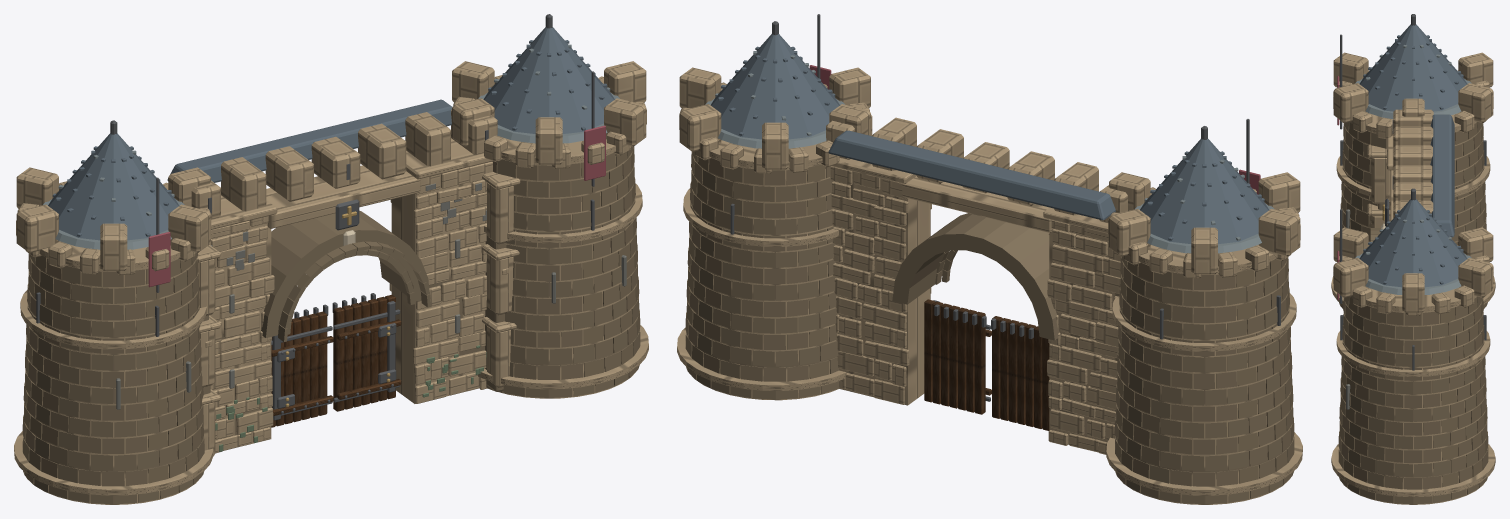
The model's file is valoria_gate_reference.glb.
3 renders of one model, left to right at view 1: azimuth 30°, elevation 25°; view 2: azimuth 150°, elevation 25°; view 3: azimuth 270°, elevation 25°, orthographic. The views are drawn at different scales.
Visible parts, largest first — view 1: arched_voussoir, gate_parapet_recessed_stone_hip, ashlar_portal_outboard.007, gate_flank_tower_recessed_drum, ashlar_portal_outboard.002, ashlar_portal_outboard.006, ashlar_portal_outboard, ashlar_portal_outboard.004, ashlar_portal_outboard.005, ashlar_portal_outboard.003, ashlar_portal_outboard.001, black_iron_strap.001 (+7 smaller); view 2: arched_voussoir, gate_parapet_recessed_stone_hip, ashlar_portal_outboard.007, gate_flank_tower_recessed_drum, ashlar_portal_outboard.002, ashlar_portal_outboard, ashlar_portal_outboard.001, ashlar_portal_outboard.004, ashlar_portal_outboard.005, ashlar_portal_outboard.003, ashlar_portal_outboard.006, vertical_oak_plank (+4 smaller); view 3: arched_voussoir, gate_parapet_recessed_stone_hip, ashlar_portal_outboard.003, ashlar_portal_outboard.006, ashlar_portal_outboard.002, gate_flank_tower_recessed_drum, ashlar_portal_outboard.007, ashlar_portal_outboard.005, ashlar_portal_outboard.001, ashlar_portal_outboard, ashlar_portal_outboard.004, slate_lap_tile (+1 smaller).
Part boxes in pixels (bbox=[...]): arched_voussoir: bbox=[14, 61, 648, 495]; gate_parapet_recessed_stone_hip: bbox=[48, 27, 614, 240]; ashlar_portal_outboard.007: bbox=[22, 159, 639, 492]; gate_flank_tower_recessed_drum: bbox=[24, 153, 638, 504]; ashlar_portal_outboard.002: bbox=[22, 147, 639, 502]; ashlar_portal_outboard.006: bbox=[25, 161, 640, 483]; ashlar_portal_outboard: bbox=[22, 147, 637, 504]; ashlar_portal_outboard.004: bbox=[24, 146, 640, 504]; ashlar_portal_outboard.005: bbox=[23, 156, 639, 498]; ashlar_portal_outboard.003: bbox=[25, 146, 639, 451]; ashlar_portal_outboard.001: bbox=[23, 152, 634, 474]; black_iron_strap.001: bbox=[36, 14, 594, 420]; arched_voussoir: bbox=[677, 67, 1302, 495]; gate_parapet_recessed_stone_hip: bbox=[710, 34, 1268, 243]; ashlar_portal_outboard.007: bbox=[687, 172, 1292, 504]; gate_flank_tower_recessed_drum: bbox=[687, 158, 1292, 504]; ashlar_portal_outboard.002: bbox=[685, 161, 1294, 504]; ashlar_portal_outboard: bbox=[686, 166, 1294, 486]; ashlar_portal_outboard.001: bbox=[685, 152, 1279, 498]; ashlar_portal_outboard.004: bbox=[686, 151, 1294, 492]; ashlar_portal_outboard.005: bbox=[685, 167, 1293, 502]; ashlar_portal_outboard.003: bbox=[687, 151, 1292, 486]; ashlar_portal_outboard.006: bbox=[686, 164, 1293, 478]; vertical_oak_plank: bbox=[924, 299, 1049, 430]; arched_voussoir: bbox=[1331, 52, 1495, 497]; gate_parapet_recessed_stone_hip: bbox=[1359, 24, 1467, 287]; ashlar_portal_outboard.003: bbox=[1339, 122, 1488, 504]; ashlar_portal_outboard.006: bbox=[1338, 133, 1487, 476]; ashlar_portal_outboard.002: bbox=[1341, 132, 1485, 502]; gate_flank_tower_recessed_drum: bbox=[1341, 128, 1485, 504]; ashlar_portal_outboard.007: bbox=[1339, 123, 1488, 494]; ashlar_portal_outboard.005: bbox=[1338, 130, 1487, 489]; ashlar_portal_outboard.001: bbox=[1338, 122, 1487, 482]; ashlar_portal_outboard: bbox=[1339, 143, 1487, 504]; ashlar_portal_outboard.004: bbox=[1340, 122, 1487, 502]; slate_lap_tile: bbox=[1355, 45, 1471, 294].
Size of the model in its own units: 18.11 by 9.68 by 5.06.
Materials: 22 (13 with a texture image).
